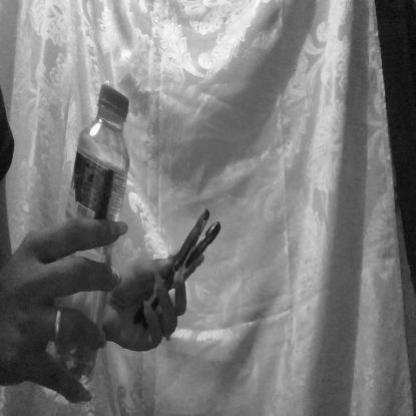Plastic Bottle: (38, 36, 141, 416)
